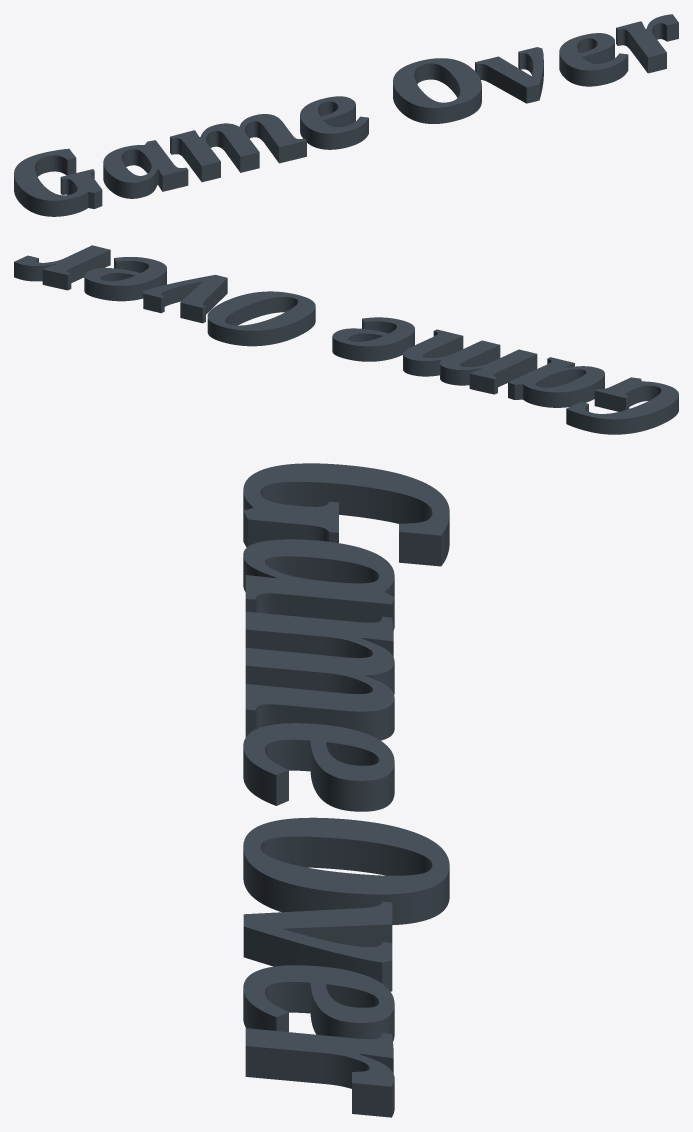
Rendered from gameover.fbx.
3 renders of one model, top to bottom at view 1: azimuth 30°, elevation 25°; view 2: azimuth 150°, elevation 25°; view 3: azimuth 270°, elevation 25°, orthographic. The views are drawn at different scales.
Parts seen in each view (by area): view 1: Text; view 2: Text; view 3: Text.
Boxes of the visible parts, box(x1,y1,x2,y2) form: Text: box(14, 14, 678, 216); Text: box(14, 245, 678, 434); Text: box(243, 463, 449, 1117).
Size of the model in its own units: 362 by 8.38 by 50.69.
